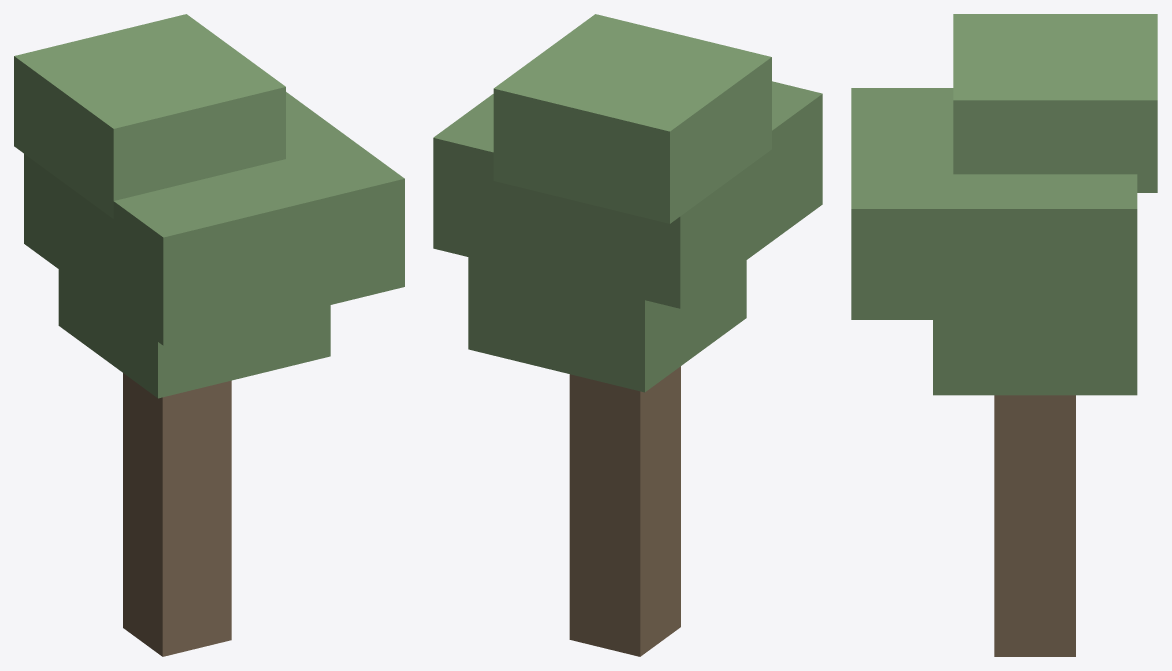
Rendered from fresno_05.glb.
3 renders of one model, left to right at view 1: azimuth 30°, elevation 25°; view 2: azimuth 150°, elevation 25°; view 3: azimuth 270°, elevation 25°, orthographic. The views are drawn at different scales.
Visible parts, largest first — view 1: fresno_05; view 2: fresno_05; view 3: fresno_05.
Boxes of the visible parts, <box> form: fresno_05: <box>14,14,404,656</box>; fresno_05: <box>433,14,822,656</box>; fresno_05: <box>851,14,1157,656</box>.
Size of the model in its own units: 1.4 by 3.1 by 1.5.
